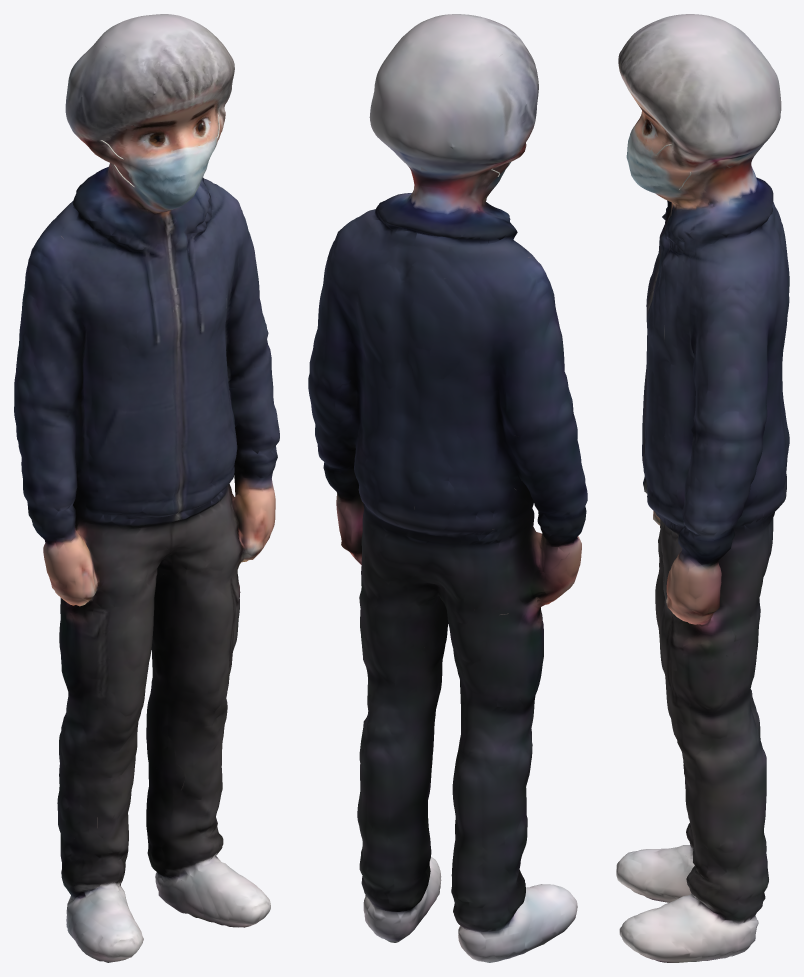
The model's file is personaje-3d.glb.
The picture shows the model from 3 angles, left to right: view 1: azimuth 30°, elevation 25°; view 2: azimuth 150°, elevation 25°; view 3: azimuth 270°, elevation 25°; orthographic projection.
Parts seen in each view (by area): view 1: Personaje; view 2: Personaje; view 3: Personaje.
Part boxes in pixels (<box>): Personaje: <box>14,14,279,962</box>; Personaje: <box>308,14,587,962</box>; Personaje: <box>616,14,789,962</box>.
Size of the model in its own units: 0.4926 by 1.7 by 0.2932.
1 material, 1 textured.
